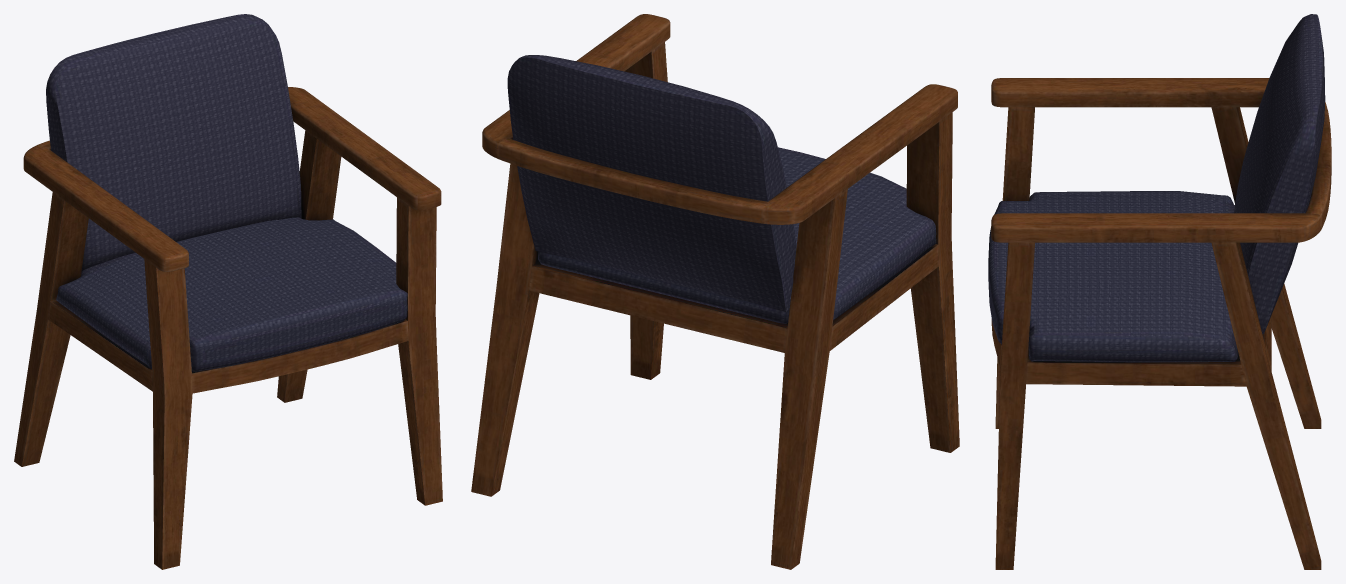
Rendered from Office_chair.fbx.
3 views of the same model, side by side, from view 1: azimuth 30°, elevation 25°; view 2: azimuth 150°, elevation 25°; view 3: azimuth 270°, elevation 25° (orthographic). The views are drawn at different scales.
Visible parts, largest first — view 1: Chair; view 2: Chair; view 3: Chair.
Boxes of the visible parts, left/top/right/bottom form: Chair: left=14, top=14, right=442, bottom=569; Chair: left=471, top=14, right=959, bottom=569; Chair: left=988, top=14, right=1331, bottom=569.
Size of the model in its own units: 59.46 by 79.82 by 57.33.
1 material, 1 textured.
